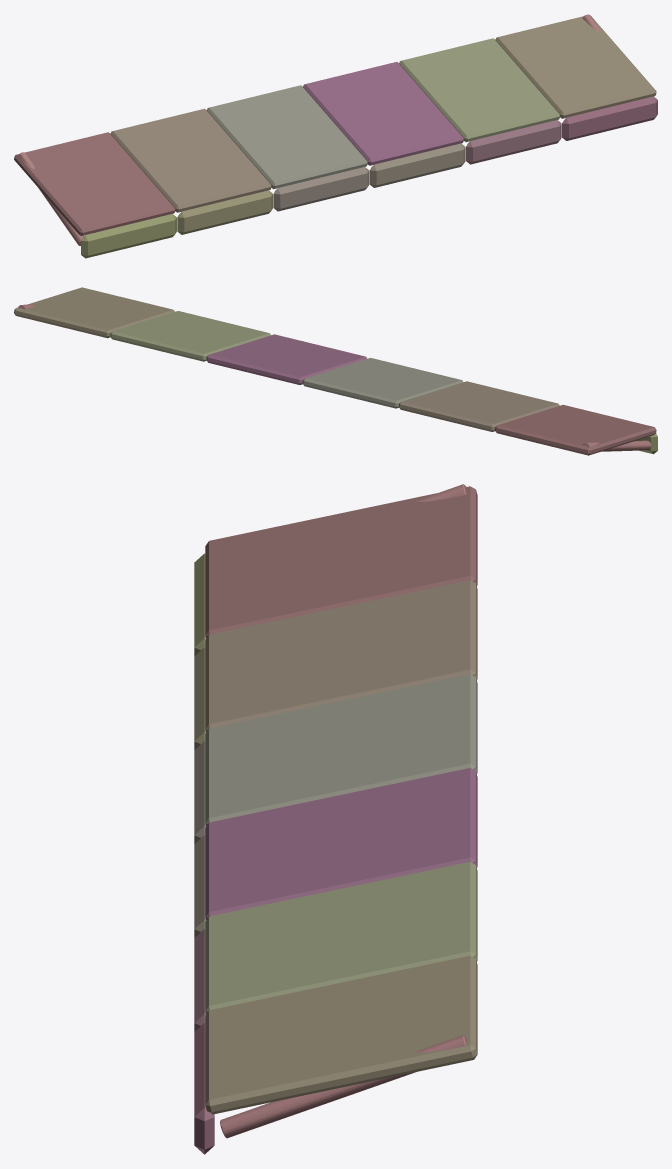
The model's file is WC_RIVER_Awning_Jade_A.glb.
3 views of the same model, one above another, from view 1: azimuth 30°, elevation 25°; view 2: azimuth 150°, elevation 25°; view 3: azimuth 270°, elevation 25° (orthographic). The views are drawn at different scales.
Parts seen in each view (by area): view 1: WC_RIVER_Awning_Jade_A_RenderMesh; view 2: WC_RIVER_Awning_Jade_A_RenderMesh; view 3: WC_RIVER_Awning_Jade_A_RenderMesh.
Part boxes in pixels (box(x1,y1,x2,y2)): WC_RIVER_Awning_Jade_A_RenderMesh: box(14, 14, 657, 258); WC_RIVER_Awning_Jade_A_RenderMesh: box(14, 287, 657, 455); WC_RIVER_Awning_Jade_A_RenderMesh: box(194, 484, 477, 1154).
Size of the model in its own units: 3.6 by 0.3491 by 0.765.
